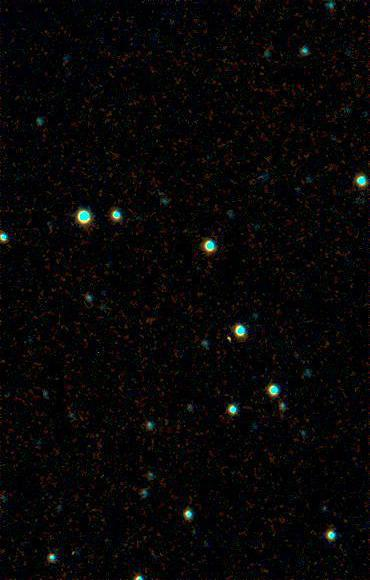star: (215, 319, 245, 349)
